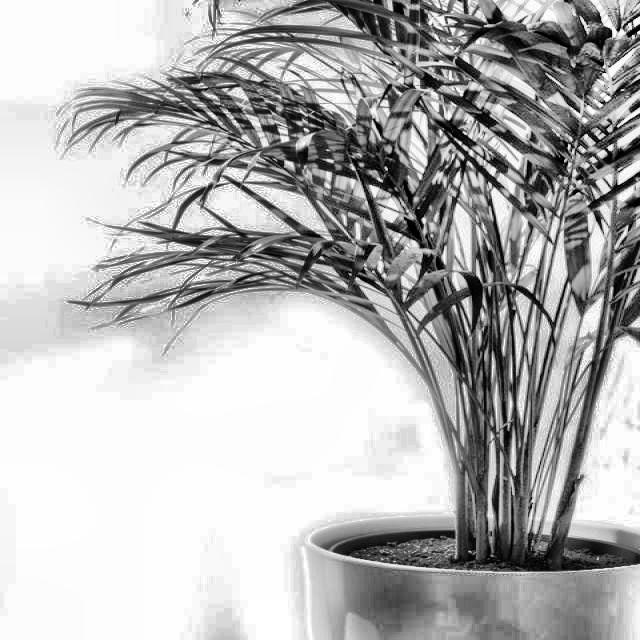plants: (117, 11, 639, 640)
